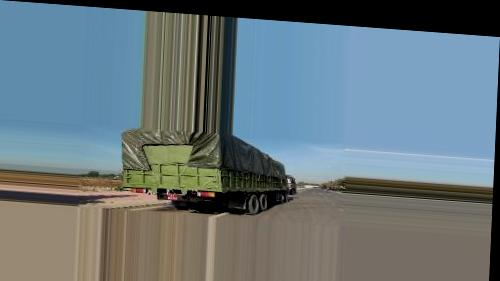License_Plate: (166, 192, 179, 203)
